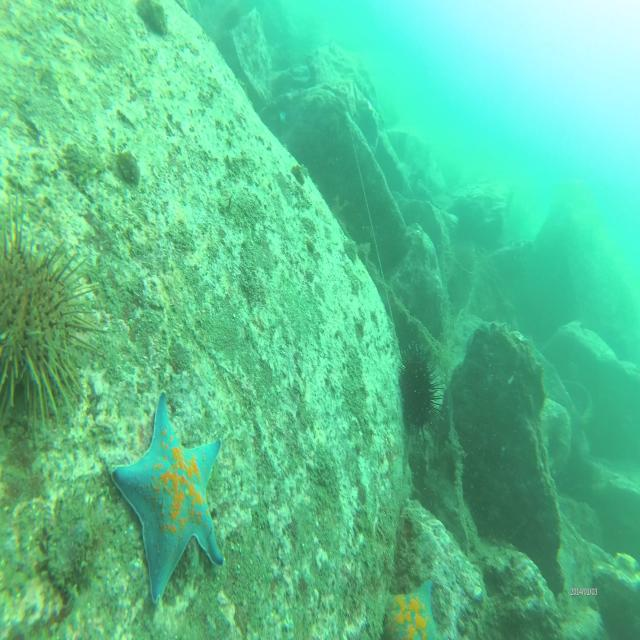echinus: (1, 214, 97, 430), (399, 353, 439, 434)
starfish: (112, 391, 224, 608), (385, 574, 441, 640)
